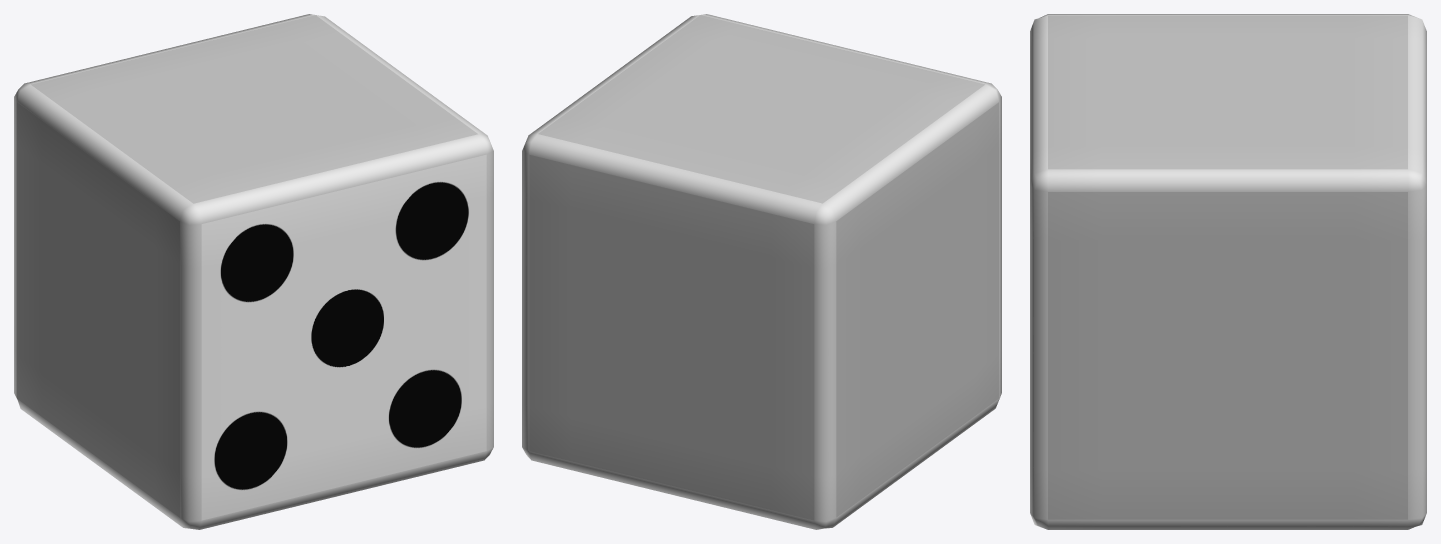
File: Die.fbx
3 renders of one model, left to right at view 1: azimuth 30°, elevation 25°; view 2: azimuth 150°, elevation 25°; view 3: azimuth 270°, elevation 25°, orthographic. The views are drawn at different scales.
Visible parts, largest first — view 1: pCube3; view 2: pCube3; view 3: pCube3.
Part boxes in pixels (box(x1,y1,x2,y2)): pCube3: box(14, 14, 493, 529); pCube3: box(522, 14, 1001, 529); pCube3: box(1030, 14, 1426, 529).
Size of the model in its own units: 1 by 1 by 1.
